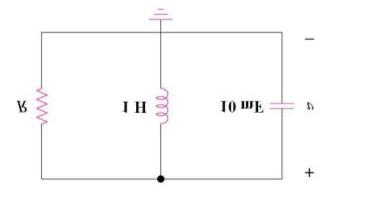inductor: (149, 77, 171, 136)
